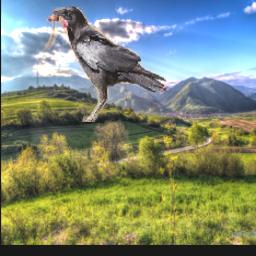Crow: (38, 1, 168, 122)
